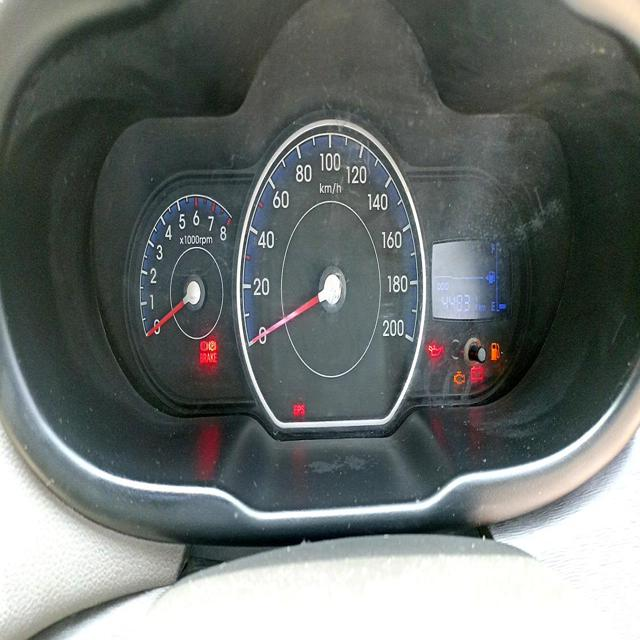odometer: (440, 288, 478, 312)
